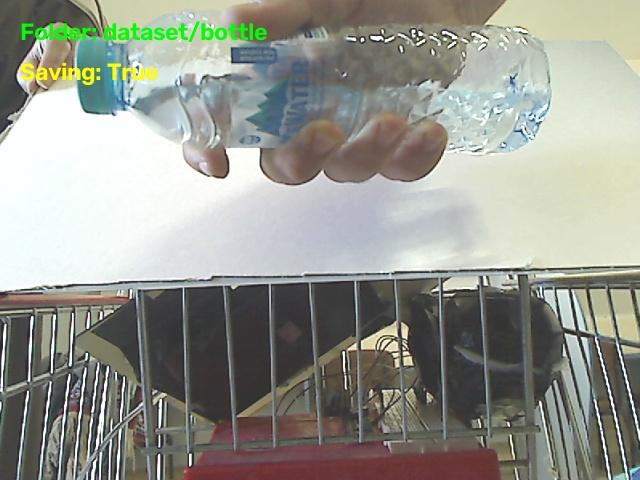Bottle: (76, 11, 549, 154)
